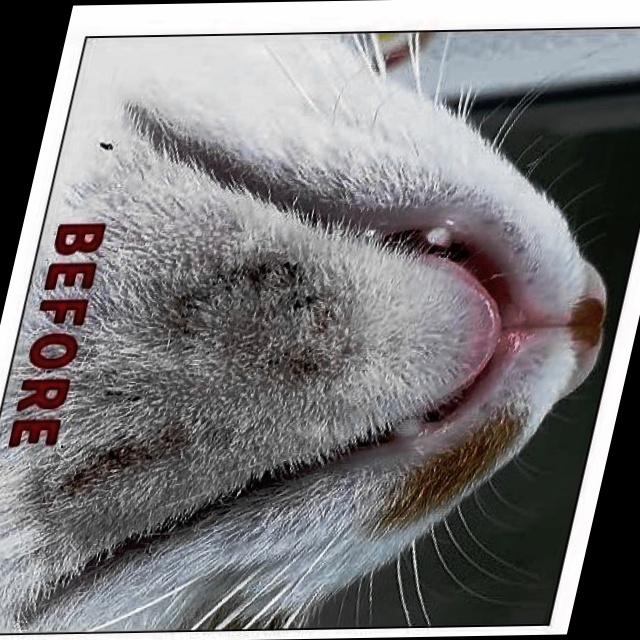acne: (93, 263, 363, 422)
